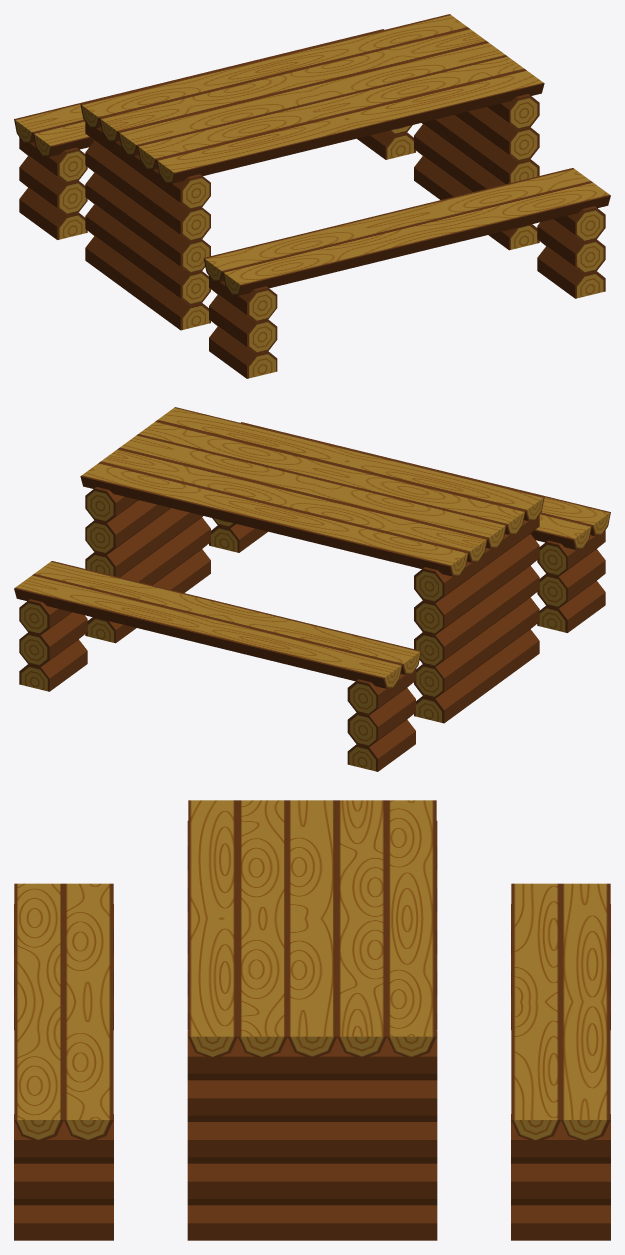
The model's file is LogTable_01.fbx.
3 renders of one model, top to bottom at view 1: azimuth 30°, elevation 25°; view 2: azimuth 150°, elevation 25°; view 3: azimuth 270°, elevation 25°, orthographic. The views are drawn at different scales.
Visible parts, largest first — view 1: LogTable_01; view 2: LogTable_01; view 3: LogTable_01.
Boxes of the visible parts, x1,y1,x2,y2 form: LogTable_01: (14, 14, 610, 378); LogTable_01: (14, 407, 610, 771); LogTable_01: (14, 800, 610, 1240).
Bounding box in the file's own units: 225 × 92 × 240.
